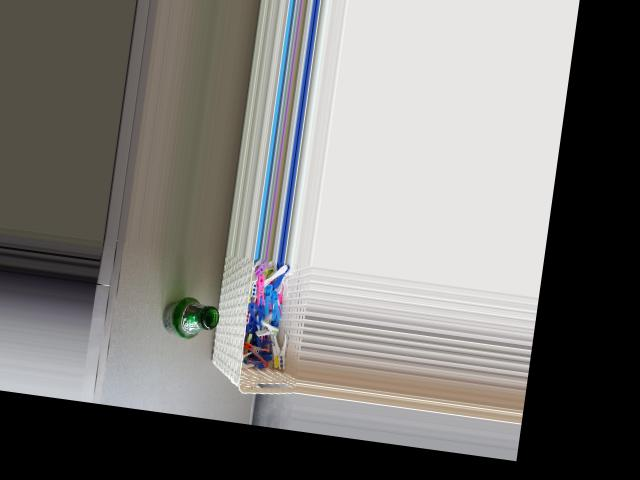beer: (159, 293, 220, 343)
